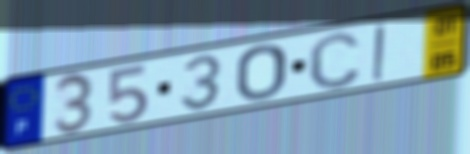3: (175, 52, 226, 113), (51, 70, 96, 139)
5: (105, 60, 152, 126)
C: (306, 29, 363, 92)
I: (370, 22, 388, 84)
O: (234, 42, 290, 103)
